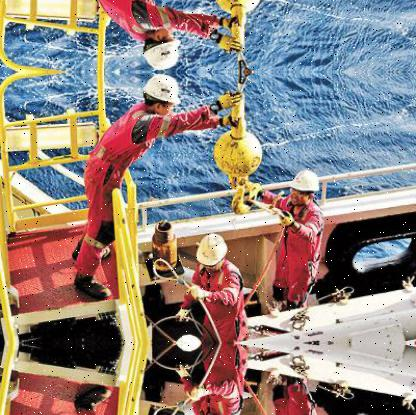helmet: (139, 73, 182, 117), (139, 25, 182, 69), (193, 230, 232, 272), (291, 165, 320, 205)
